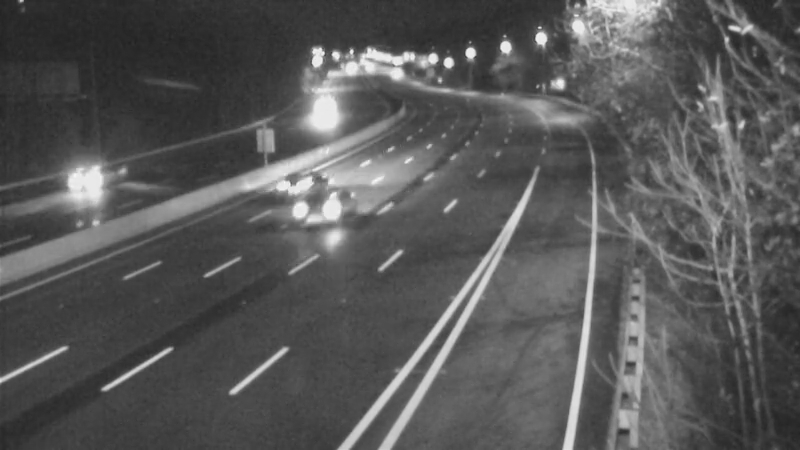vehicle: (251, 141, 331, 221), (289, 167, 369, 247), (48, 142, 128, 222), (370, 52, 420, 102), (302, 95, 352, 145)
